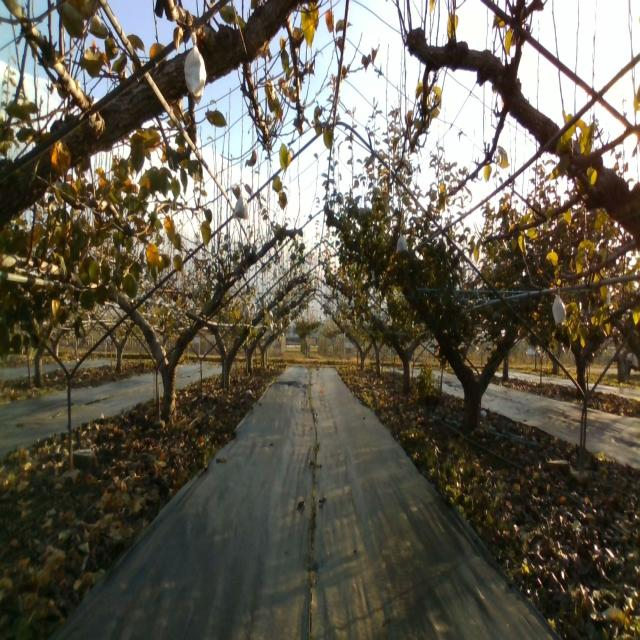pearbags: (184, 31, 207, 106), (552, 295, 567, 325), (232, 197, 251, 220), (396, 235, 408, 255)
